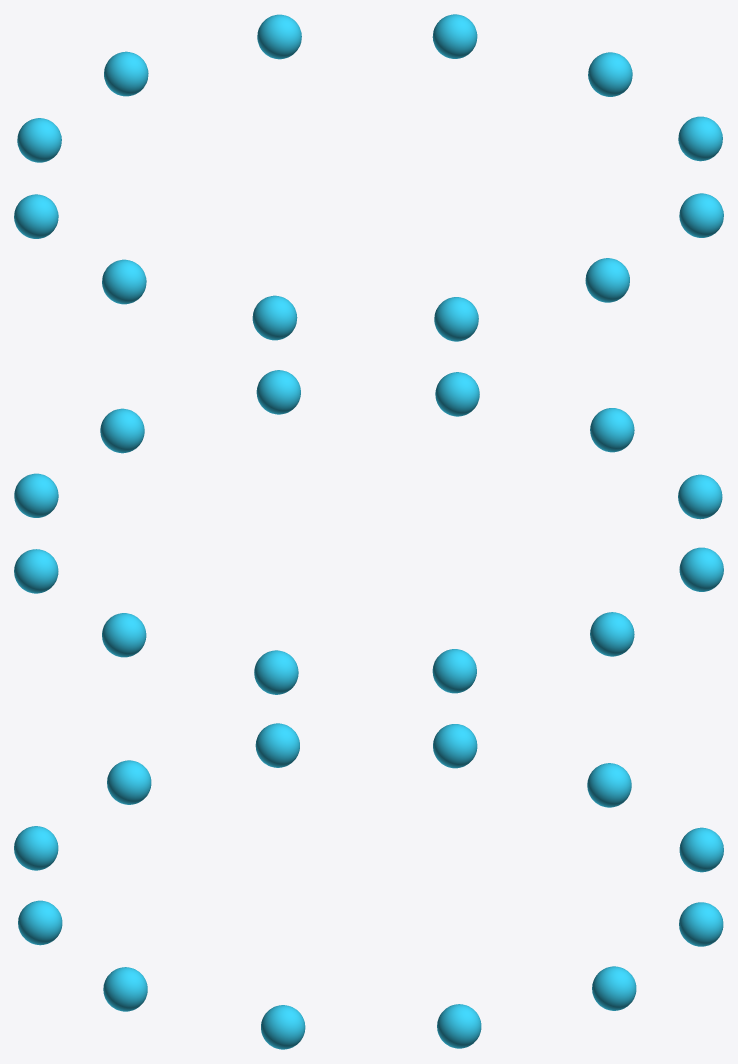
3 views of the same model, one above another, from view 1: azimuth 30°, elevation 25°; view 2: azimuth 150°, elevation 25°; view 3: azimuth 270°, elevation 25° (orthographic).
Visible parts, largest first — view 1: Sphere048; view 2: Sphere048; view 3: Sphere048.
Boxes of the visible parts, <box> form: Sphere048: <box>14,14,723,341</box>; Sphere048: <box>14,370,723,694</box>; Sphere048: <box>14,723,723,1049</box>.
Size of the model in its own units: 131 by 8.22 by 131.
